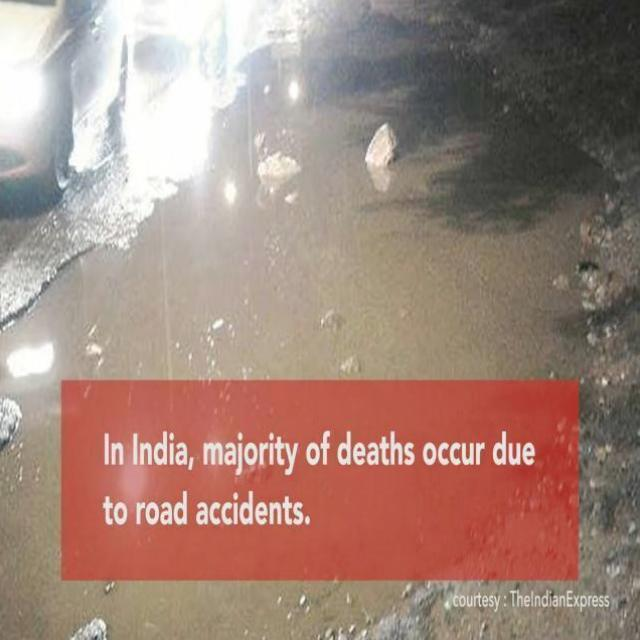pothole: (17, 5, 608, 640)
